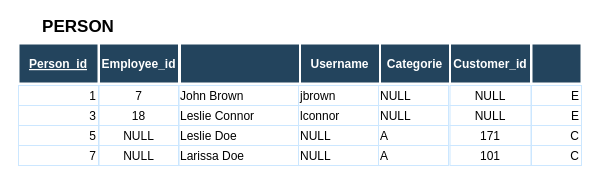
Image size: 599x183. Some labels were removed from this diagram. The shapes that lost their labels are listed below. From the top down, each one's box as (x1, y1, x2, y2) in pixels, then its label:
(178, 42, 300, 84): Name
(530, 42, 582, 84): TYPE
